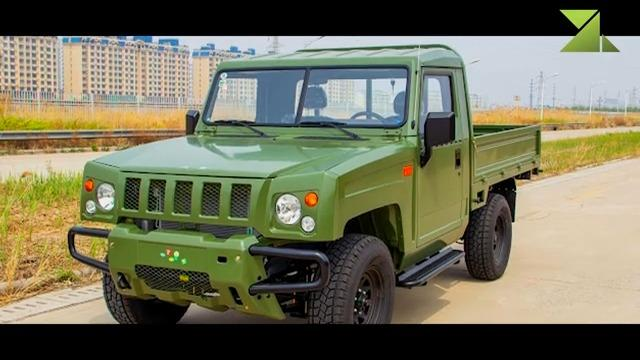MIL_HMMWV: (64, 41, 544, 324)
